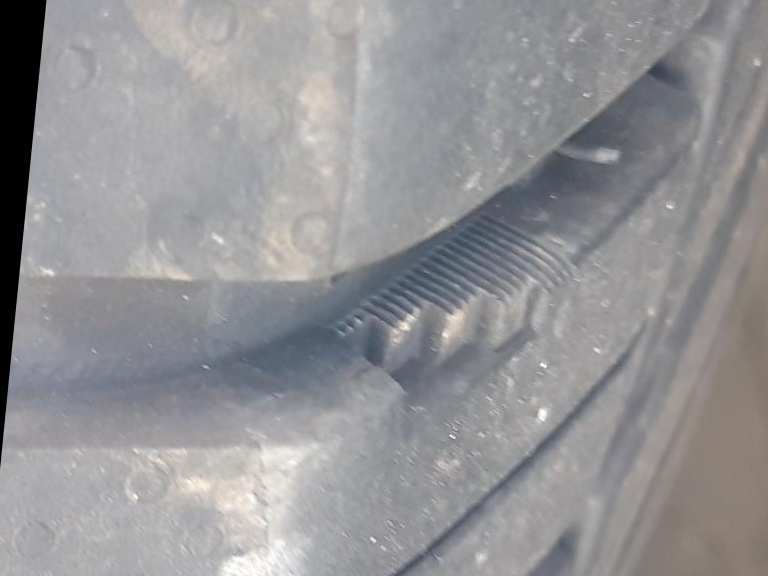temoin:90: (294, 199, 599, 454)
